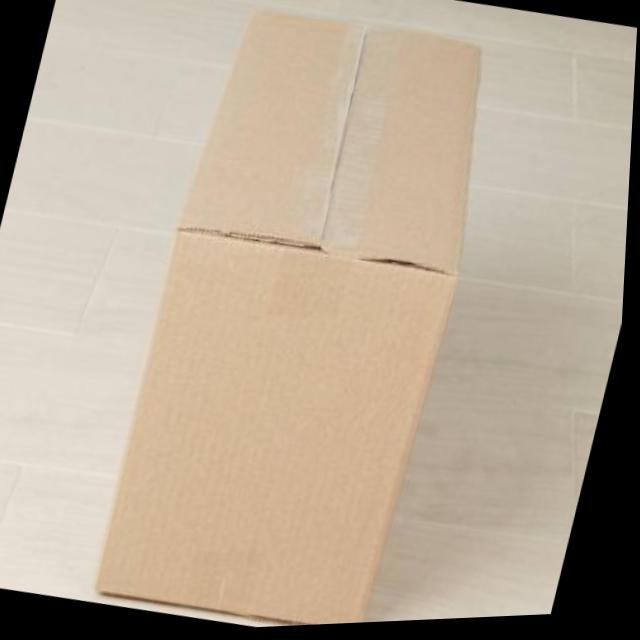box: (85, 0, 535, 636)
